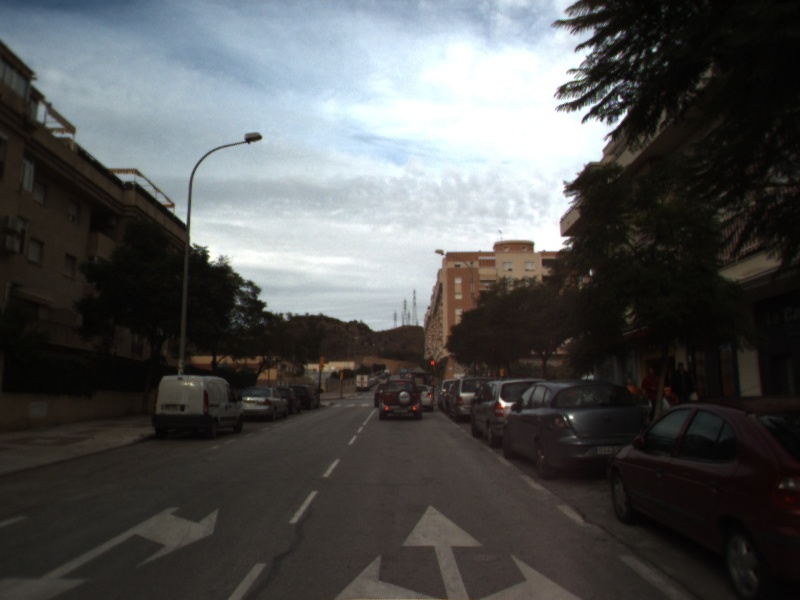STRAIGHT_LEFT_RIGHT: (330, 501, 590, 600)
